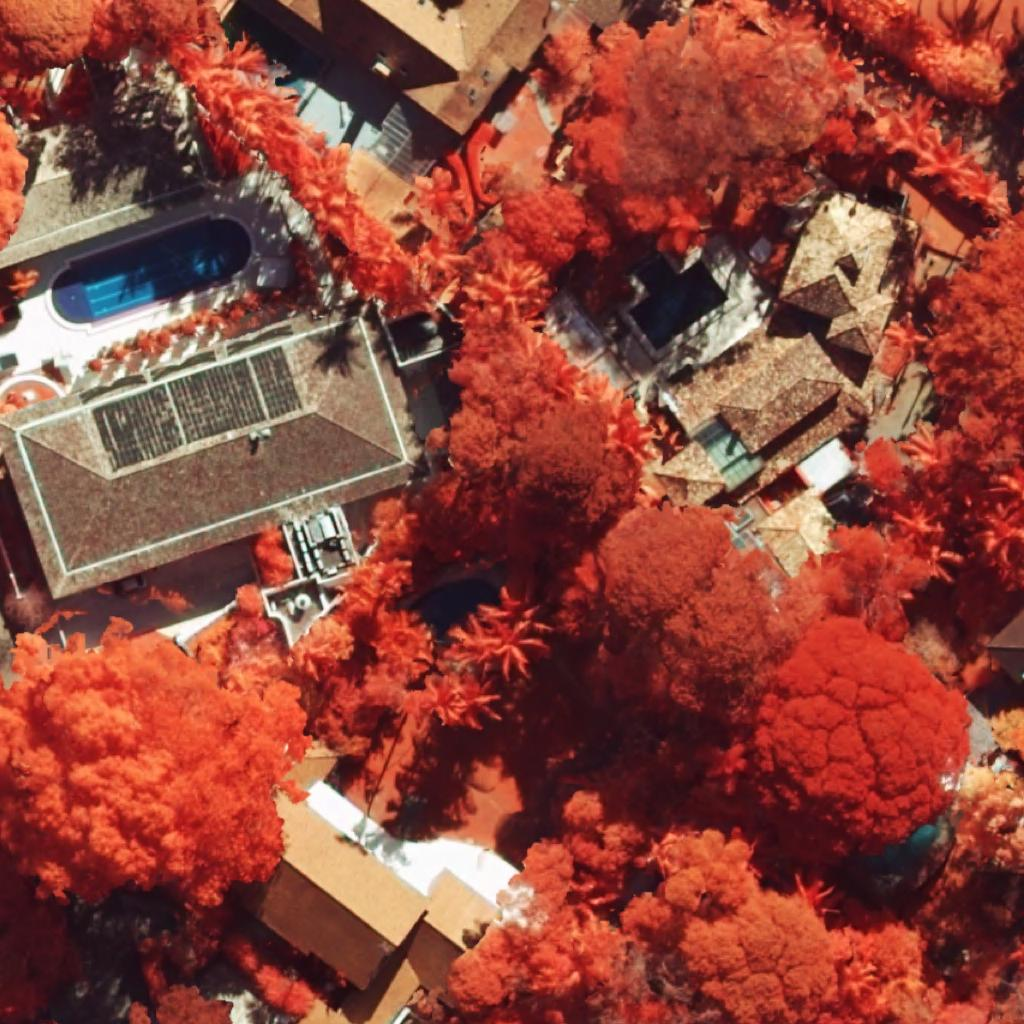pool: (51, 215, 251, 324), (629, 256, 729, 352)
